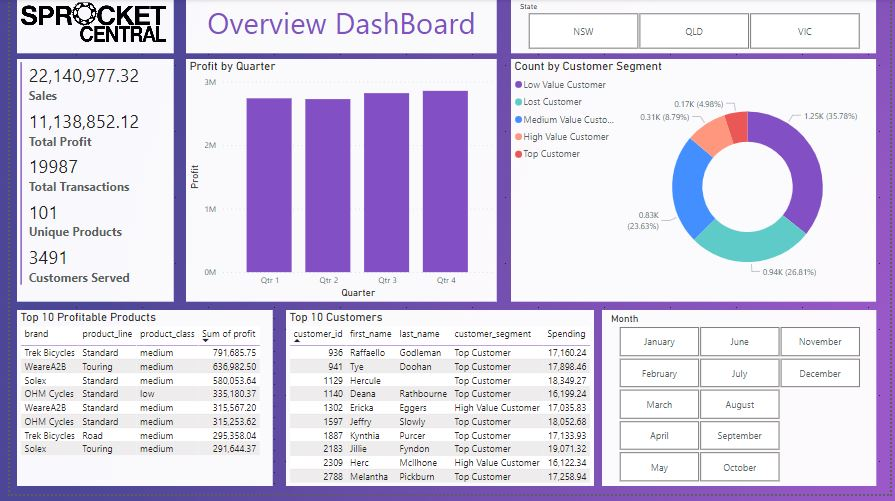

Layout of this report page (visuals, bound fields, positions):
{"tool":"powerbi","page":{"name":"Overview","canvas":[1280,720],"ordinal":0},"visuals":[{"type":"donutChart","fields":{"Category":["visuslization.customer_segment"],"Y":["visuslization.customer_id"]},"box":[728.7,87.3,530.9,353.5],"z":0},{"type":"multiRowCard","fields":{"Values":["transactions.list_price","transactions.profit","transactions.transaction_id","transactions.product_id","transactions.customer_id"]},"box":[10.2,87.3,228.4,353.5],"z":1000},{"type":"tableEx","title":"Top 10 Profitable Products","fields":{"Values":["transactions.brand","transactions.product_line","transactions.product_class","transactions.profit"]},"box":[10.1,453.1,372.2,256],"z":2000},{"type":"slicer","fields":{"Values":["visuslization.state"]},"box":[728.7,0,530.9,78.5],"z":3000},{"type":"image","box":[10.2,0,228.4,78.5],"z":4000},{"type":"columnChart","fields":{"Category":["transactions.transaction_date.Variation.Date Hierarchy.Quarter"],"Y":["transactions.profit"]},"box":[256,87.3,452.4,353.5],"z":5000},{"type":"textbox","box":[256,0,452.4,78.5],"z":6000},{"type":"tableEx","title":"Top 10 Customers","fields":{"Values":["transactions.customer_id","visuslization.first_name","visuslization.last_name","visuslization.customer_segment","transactions.list_price"]},"box":[401.5,452.4,448,256],"z":7000},{"type":"slicer","fields":{"Values":["transactions.transaction_date.Variation.Date Hierarchy.Month"]},"box":[861.1,452.4,398.5,256],"z":7001}]}

Visuals, with their boxes in screenshot pixels (x1, y1, x2, y2), scaled from the page's 1280x720 canvas onto the 895x501 screenshot:
donutChart - visuslization.customer_segment x visuslization.customer_id: box=[510, 61, 881, 307]
multiRowCard - transactions.list_price x transactions.profit: box=[7, 61, 167, 307]
"Top 10 Profitable Products" tableEx: box=[7, 315, 267, 493]
slicer - visuslization.state: box=[510, 0, 881, 55]
image: box=[7, 0, 167, 55]
columnChart - transactions.transaction_date.Variation.Date Hierarchy.Quarter x transactions.profit: box=[179, 61, 495, 307]
textbox: box=[179, 0, 495, 55]
"Top 10 Customers" tableEx: box=[281, 315, 594, 493]
slicer - transactions.transaction_date.Variation.Date Hierarchy.Month: box=[602, 315, 881, 493]
